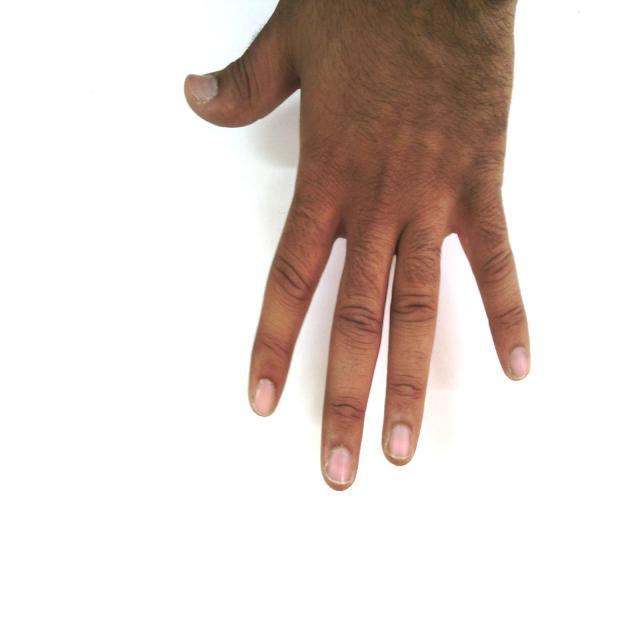Fingernail: (327, 446, 352, 484), (186, 76, 216, 103), (388, 425, 411, 458), (254, 379, 275, 415), (511, 347, 528, 379)
